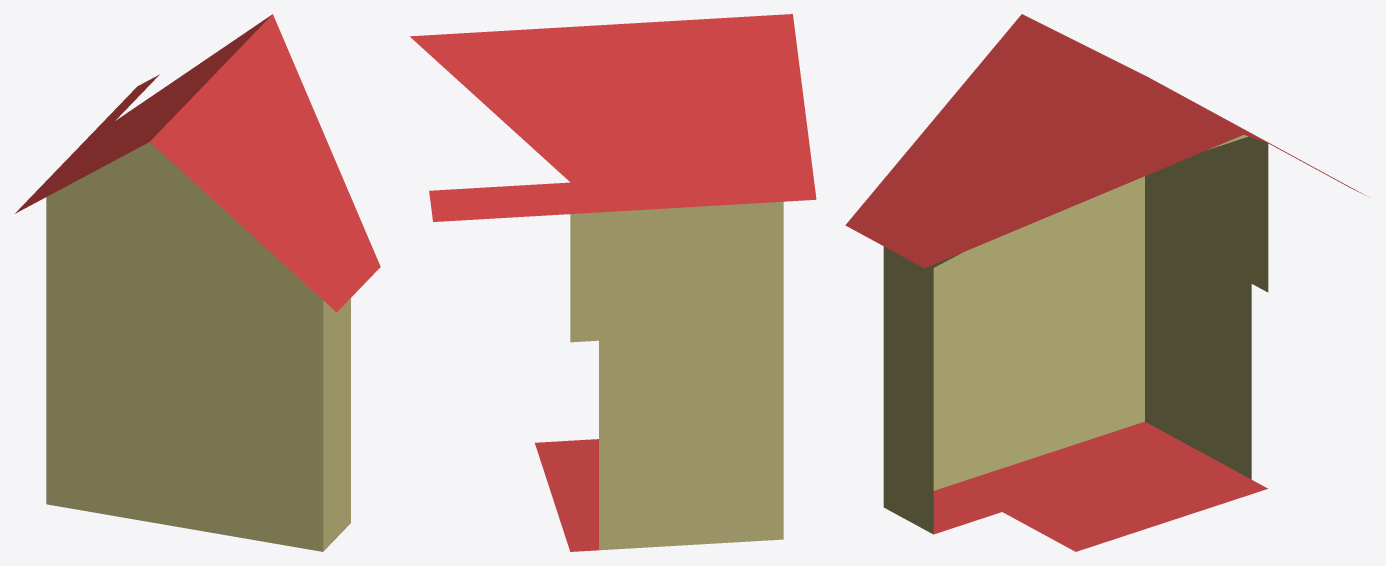
3 views of the same model, side by side, from view 1: azimuth 30°, elevation 25°; view 2: azimuth 150°, elevation 25°; view 3: azimuth 270°, elevation 25° (orthographic). The views are drawn at different scales.
Size of the model in its own units: 10.57 by 14.45 by 13.12.
